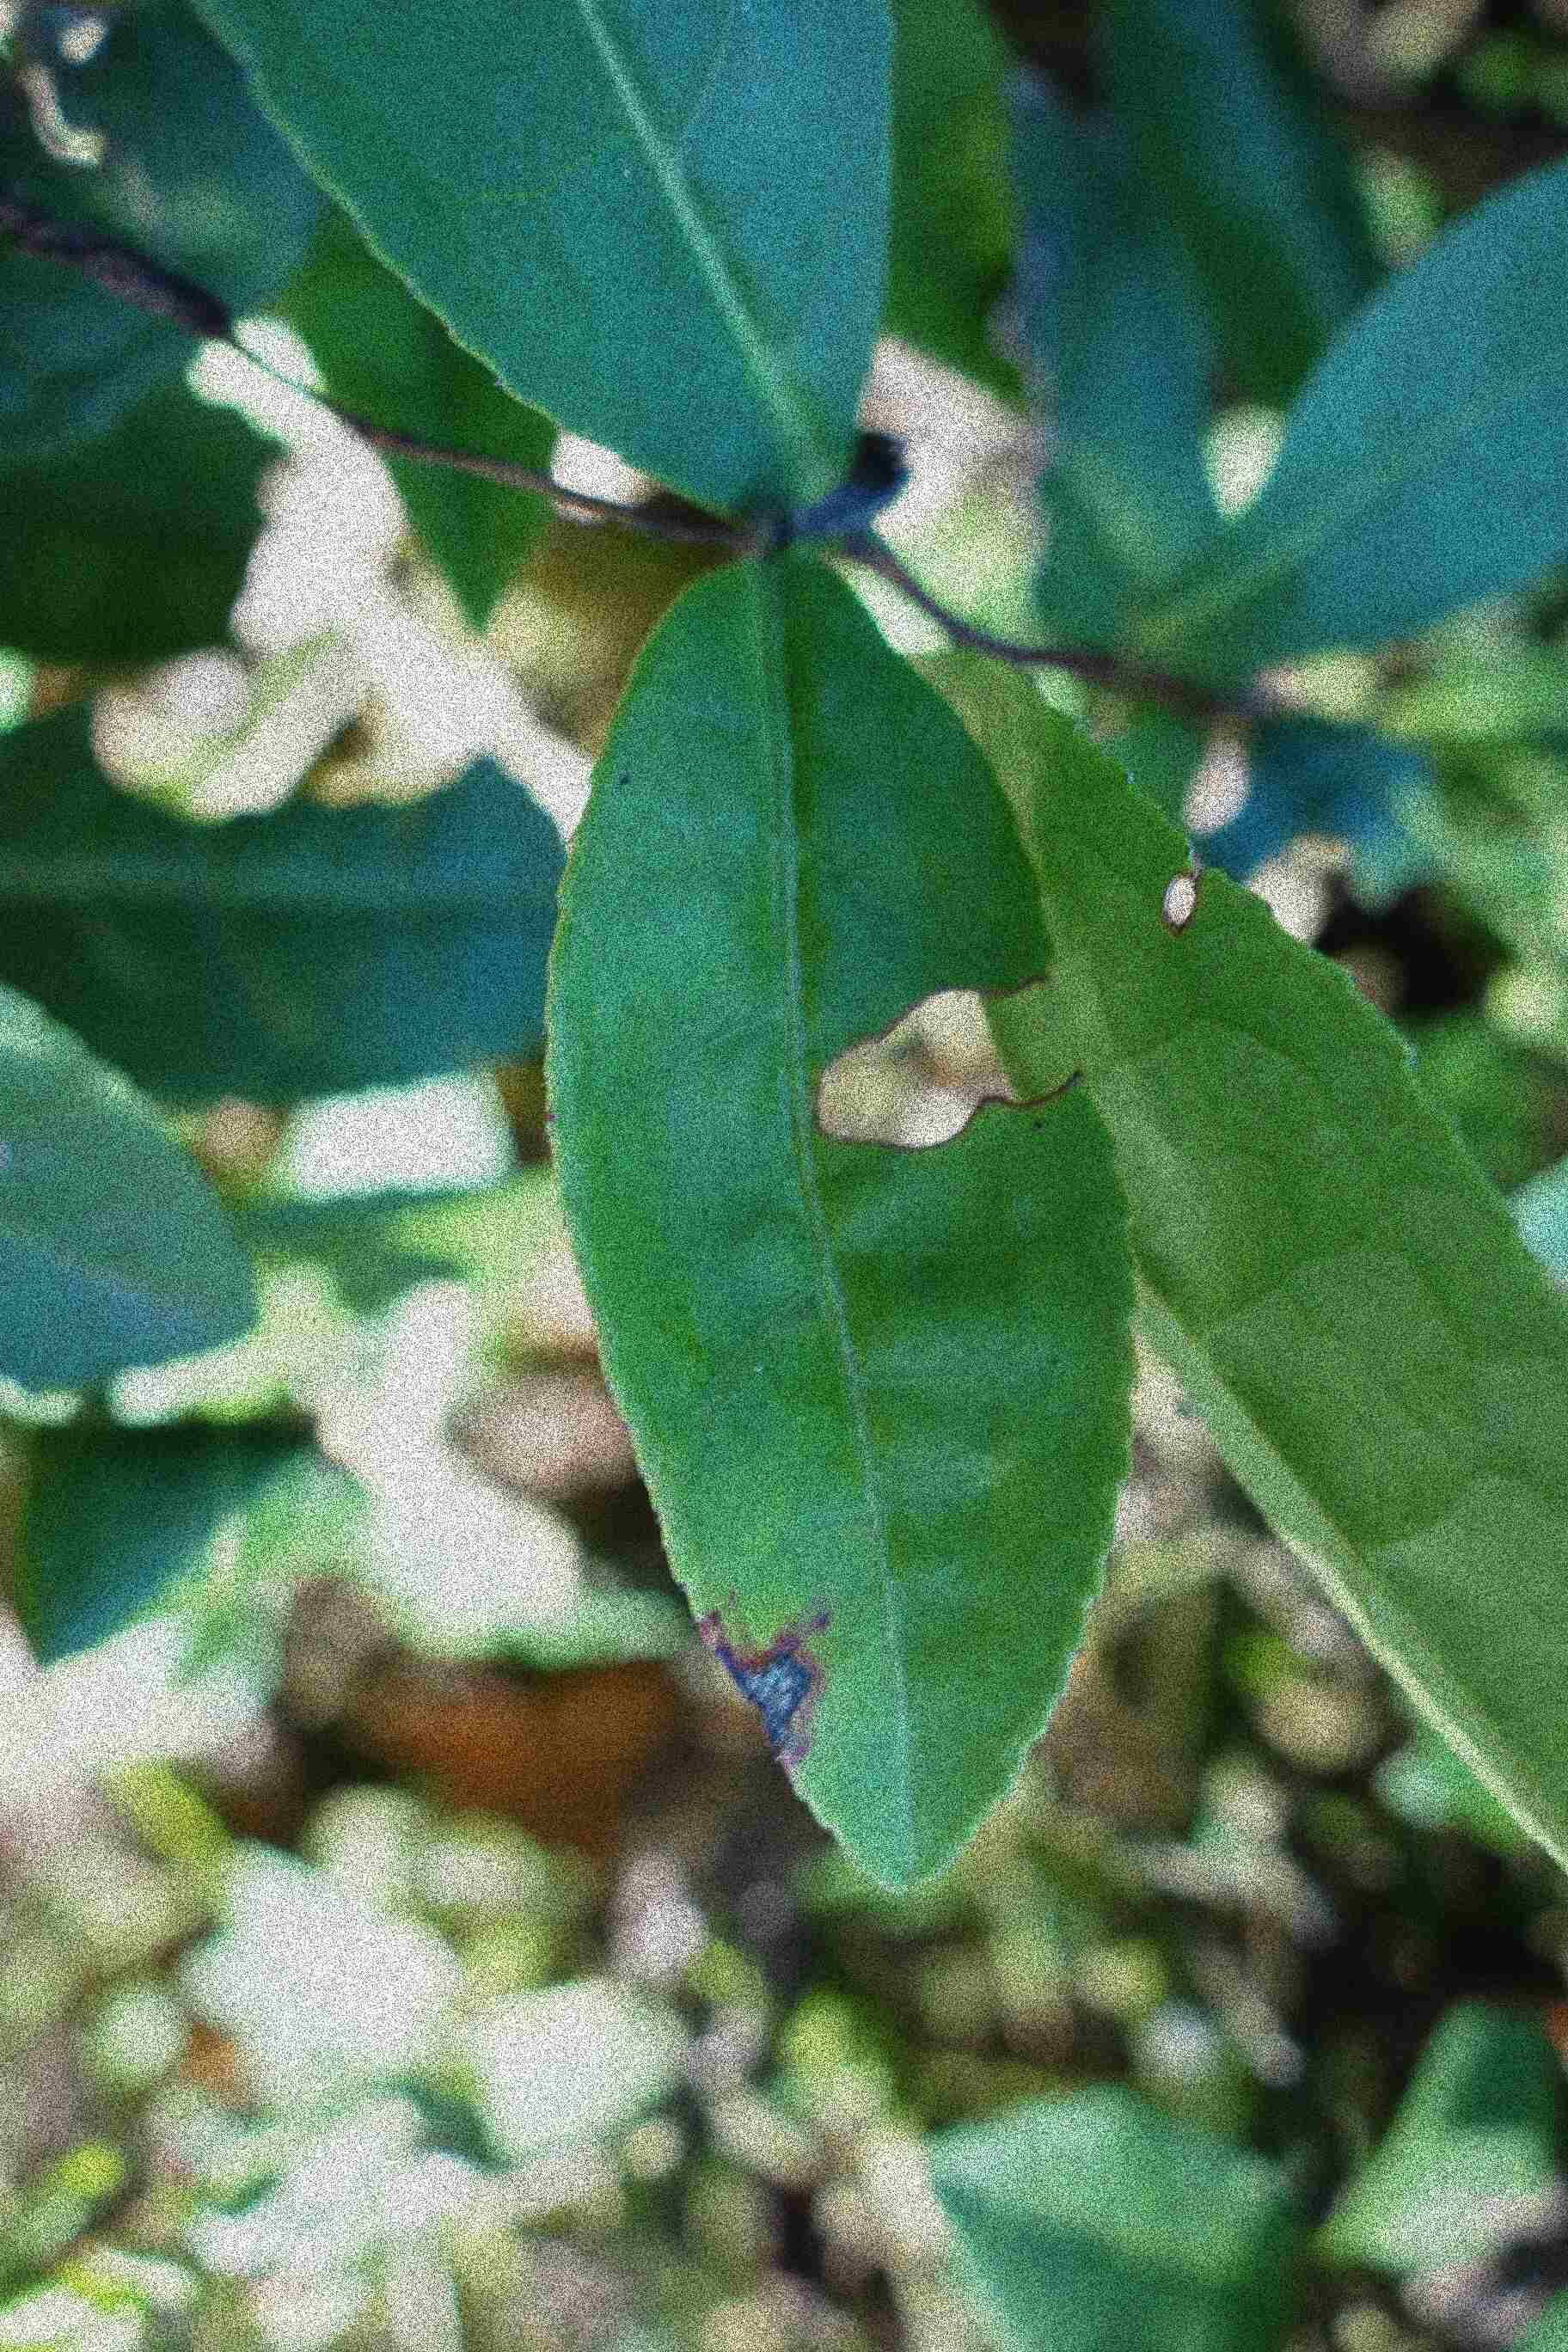chihuo_low: (542, 542, 1144, 1900), (1111, 749, 1568, 1878)
